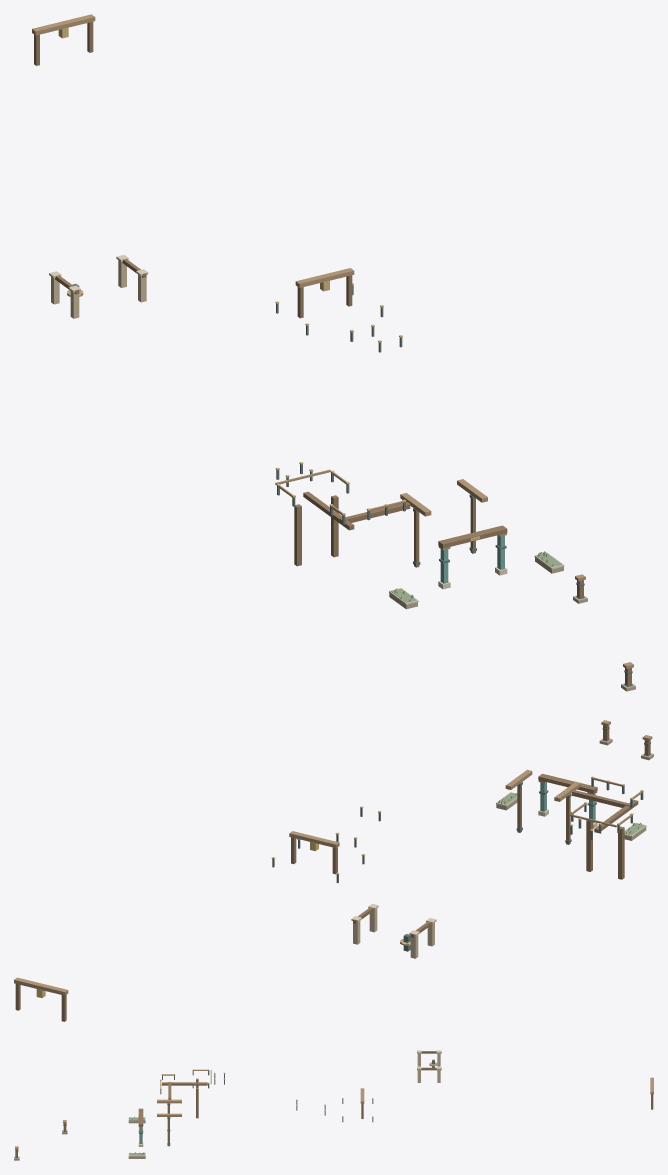
The model's file is EastViaductJoinery.glb.
3 views of the same model, one above another, from view 1: azimuth 30°, elevation 25°; view 2: azimuth 150°, elevation 25°; view 3: azimuth 270°, elevation 25° (orthographic). The views are drawn at different scales.
Parts seen in each view (by area): view 1: EastViaductJoinery; view 2: EastViaductJoinery; view 3: EastViaductJoinery.
Part boxes in pixels (x1=…): EastViaductJoinery: x1=32, y1=14, x2=635, y2=691; EastViaductJoinery: x1=14, y1=720, x2=653, y2=1021; EastViaductJoinery: x1=14, y1=1050, x2=653, y2=1160.
Size of the model in its own units: 16.04 by 10.82 by 68.48.
